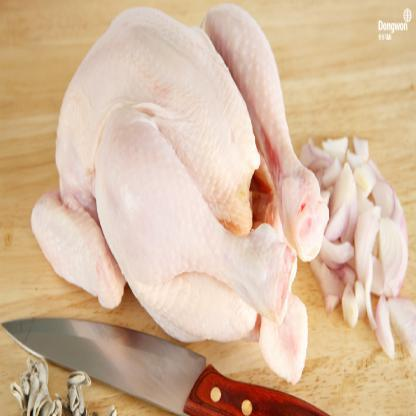chicken: (37, 0, 327, 382)
